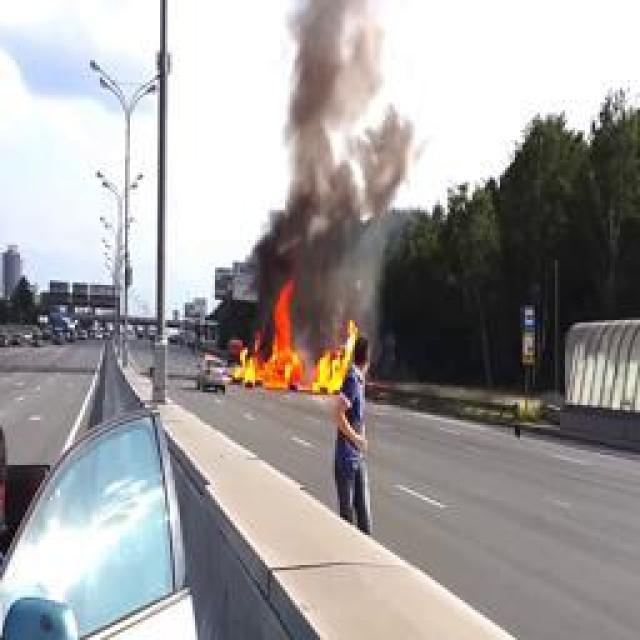Fire: (238, 278, 358, 392)
